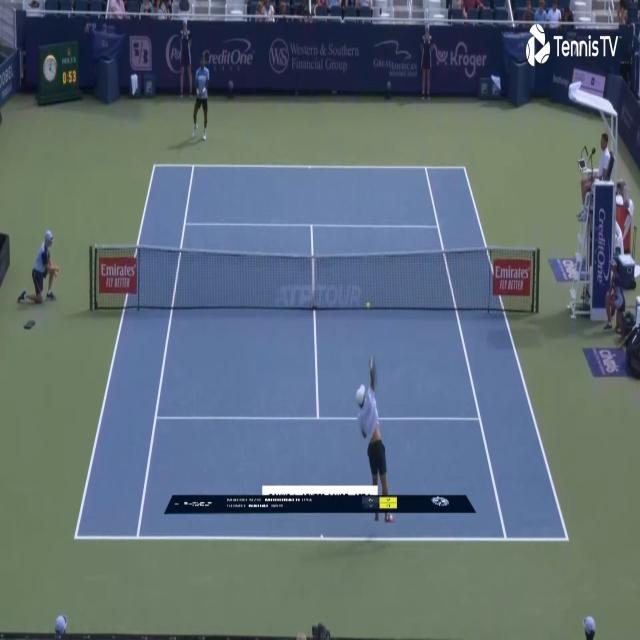tennis-player: (354, 352, 392, 497), (188, 52, 211, 142)
